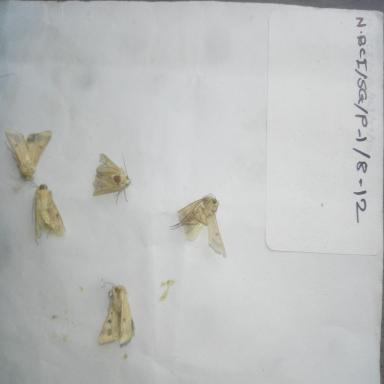abw: (167, 190, 230, 262), (1, 122, 56, 188), (92, 276, 140, 350), (27, 178, 71, 249), (90, 147, 135, 209)
